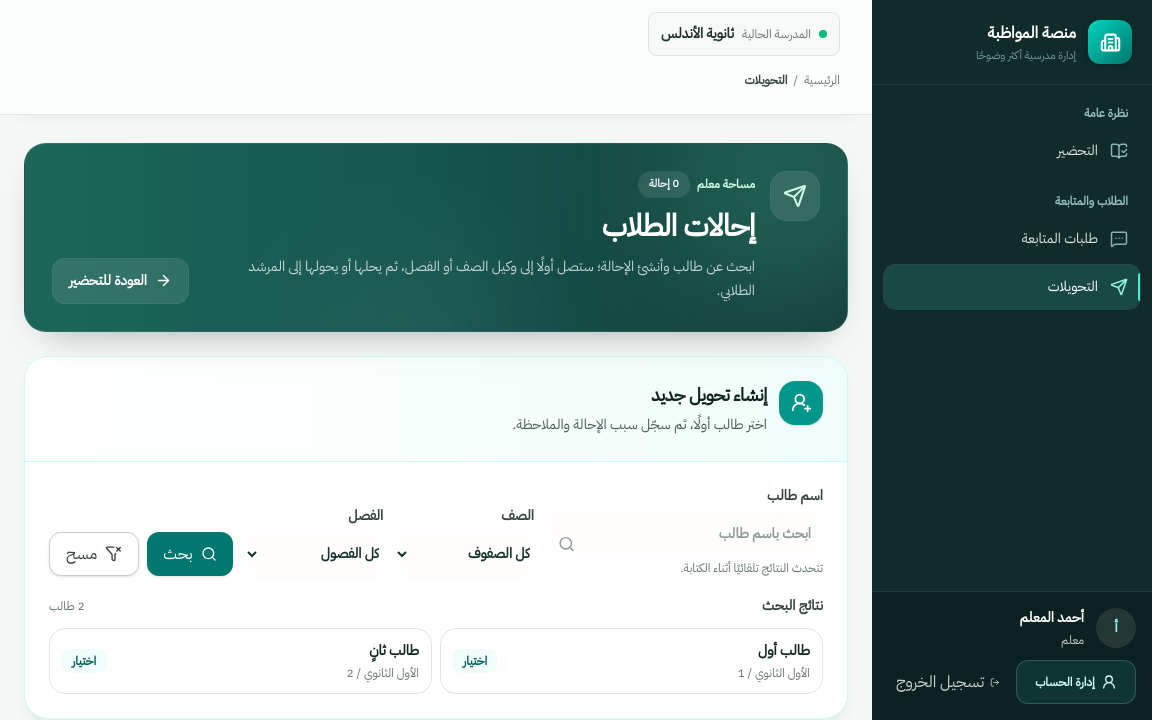
referrals (Phase 13) › requires a description when the reason is «other»
Click the button with test id "referral-candidate-11" at (784, 650), box [440,628,823,694]
(page scrolled)
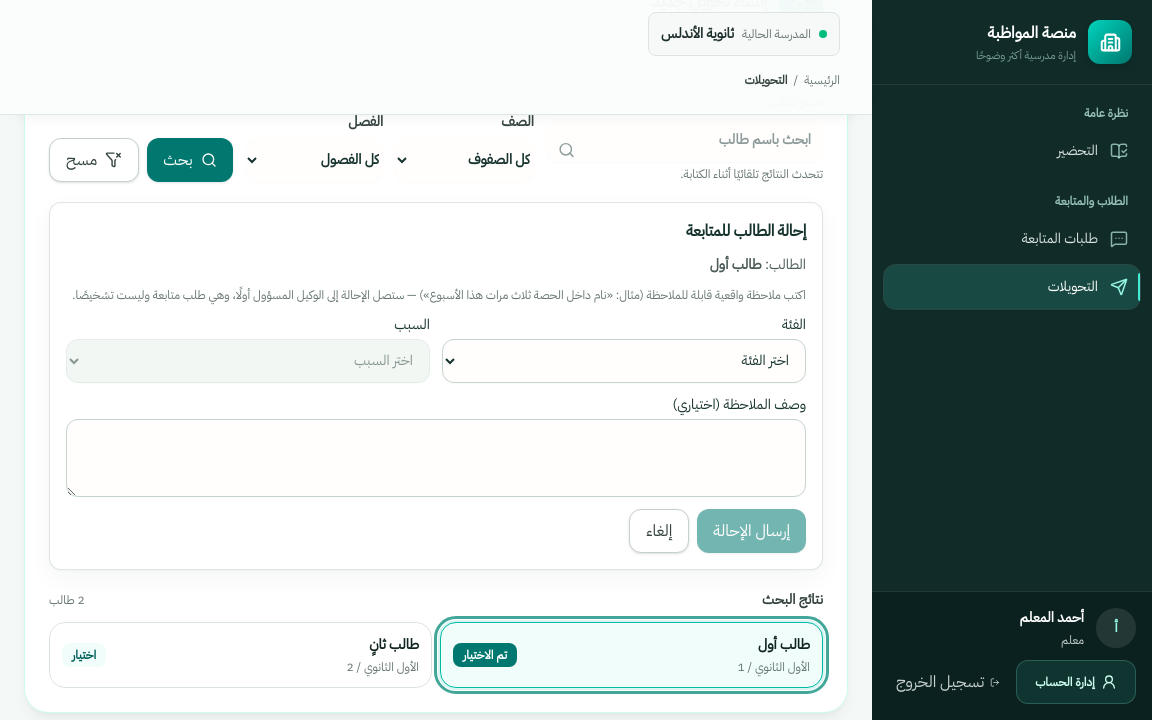
Select "الأداء الدراسي" in the dropdown with test id "referral-category" at (624, 360), box [442,338,806,382]
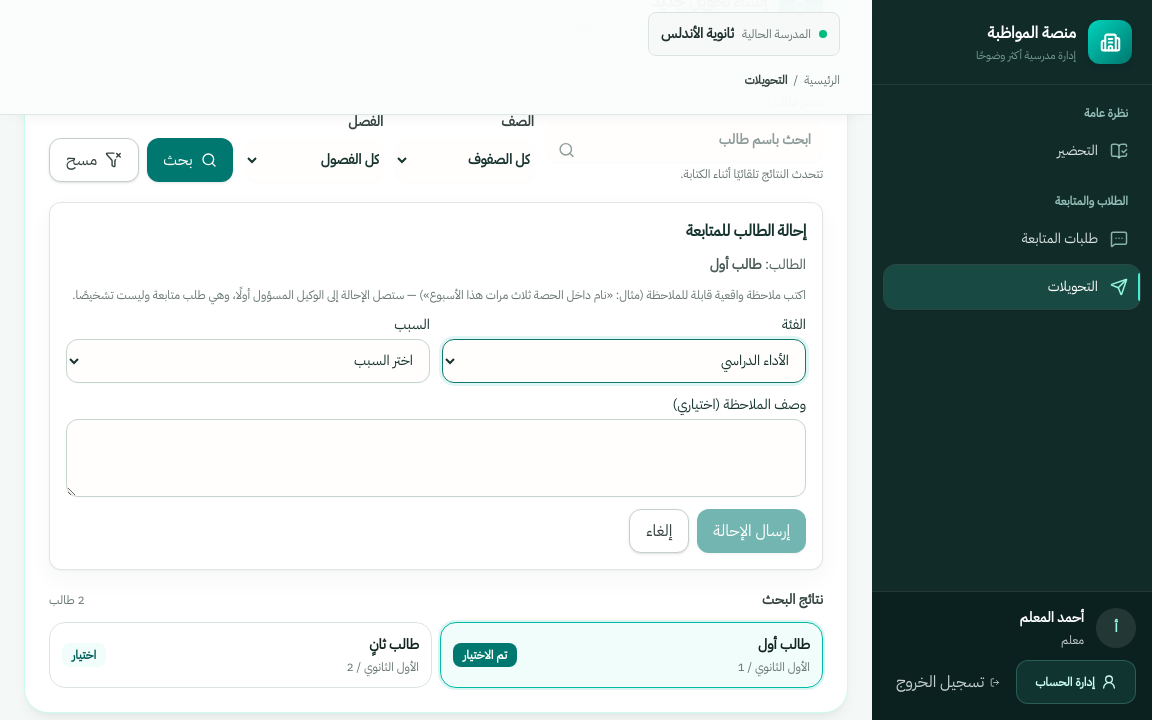
Select "سبب دراسي آخر" in the dropdown with test id "referral-reason" at (248, 360), box [66,338,430,382]
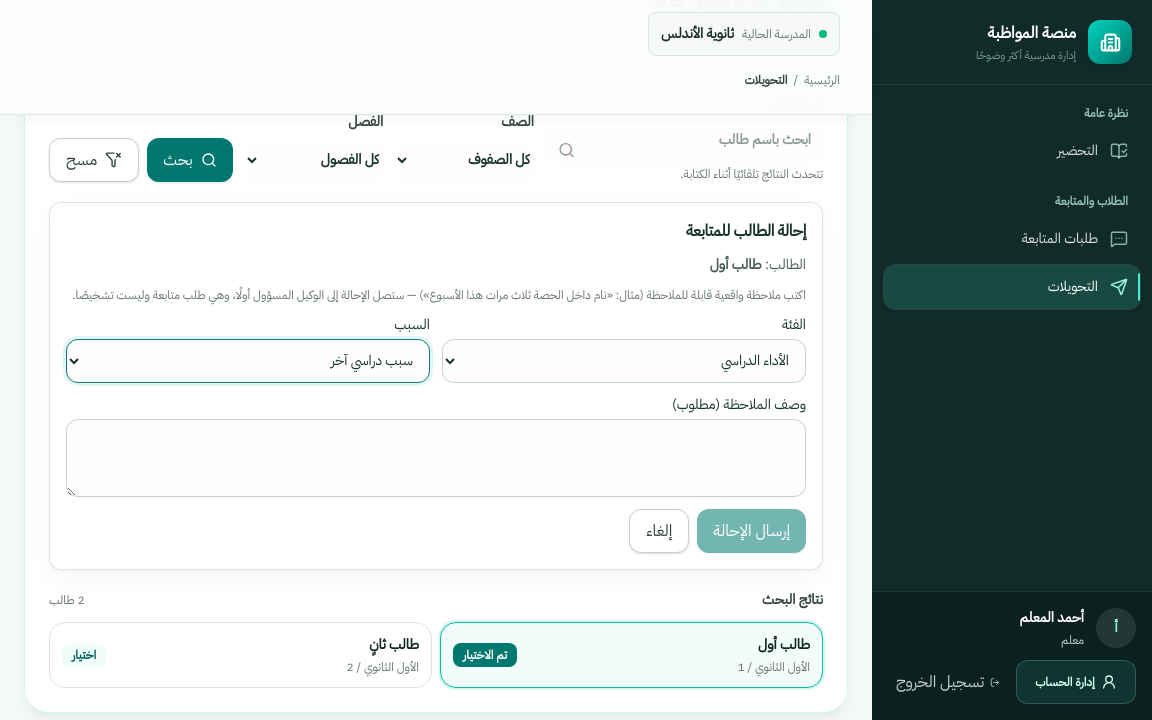
Now the button with test id "save-referral" is disabled, box [697,508,806,552]
Type "يحتاج متابعة." into the text box with test id "referral-description" at (436, 458), box [66,418,806,496]
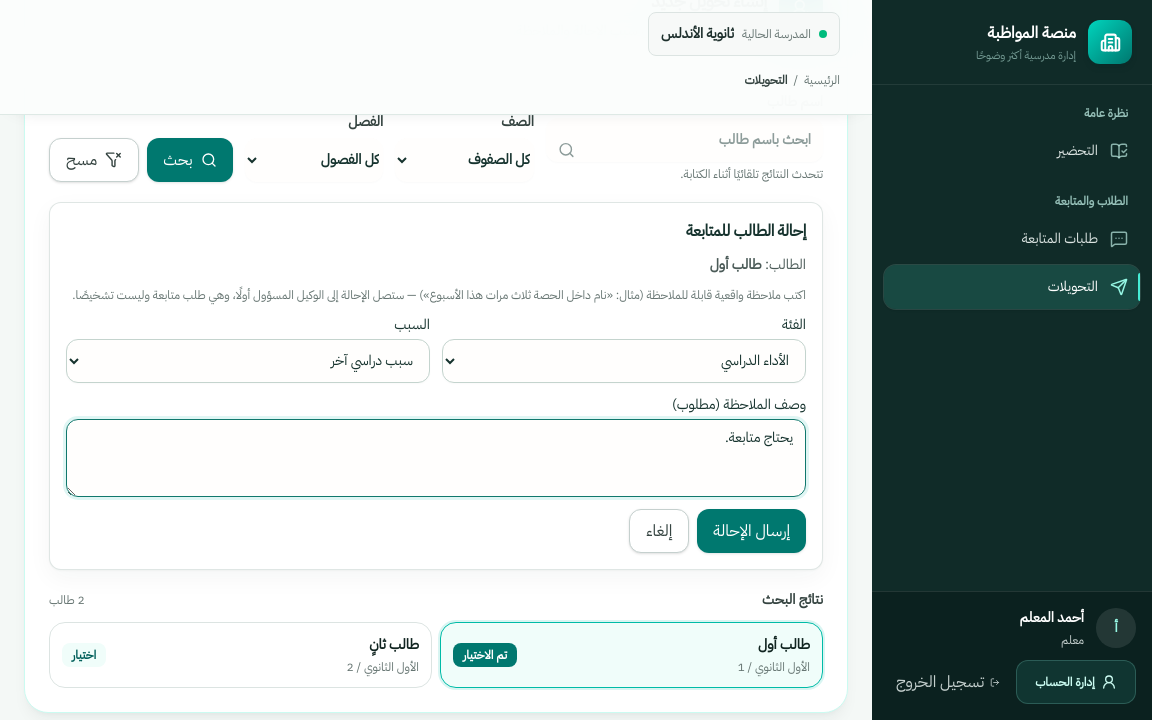
Now the button with test id "save-referral" is enabled, box [697,508,806,552]
